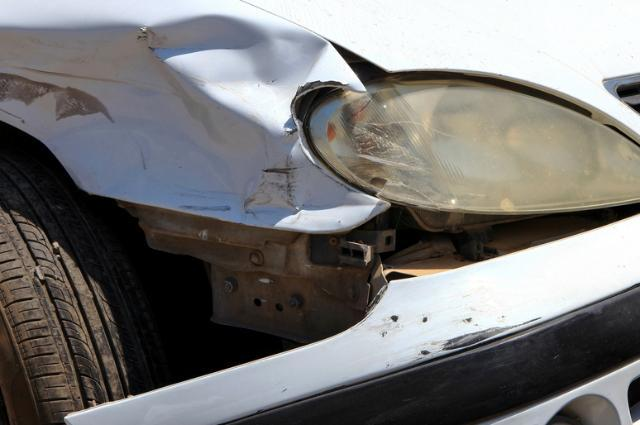Bumper: (43, 236, 640, 425)
Fender: (4, 3, 365, 237)
